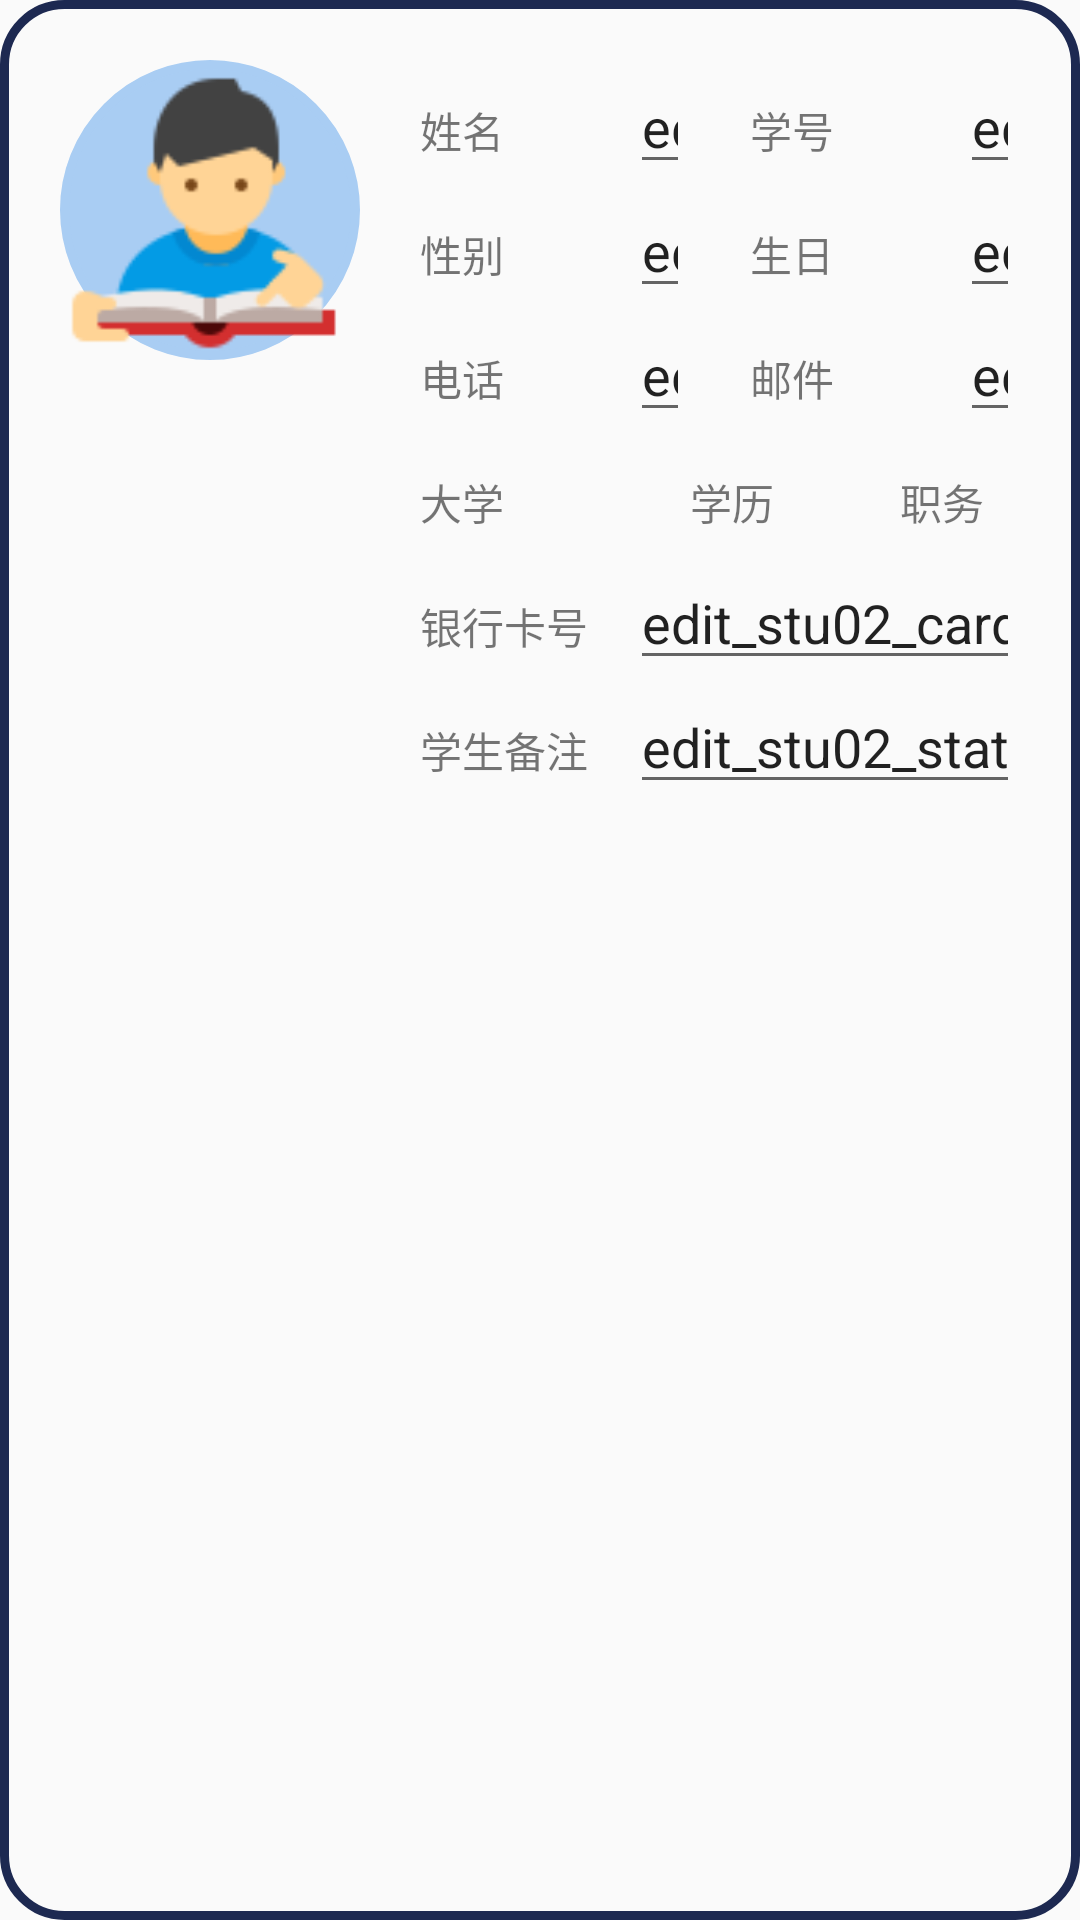

Where icons sit on this 1080 x 1920 app screen, as (x1, y1, x2, y2):
student: (60, 60, 360, 360)
